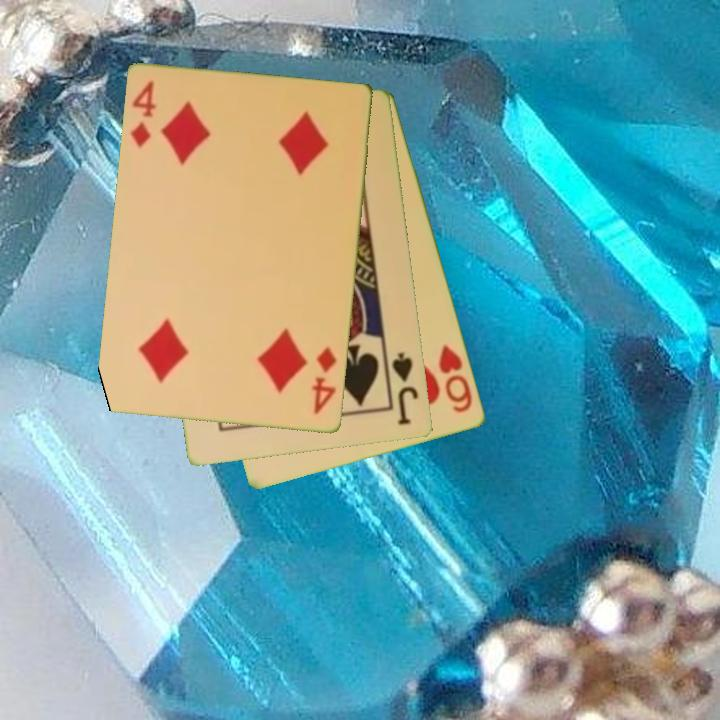4d: (127, 78, 160, 151), (308, 344, 340, 418)
6h: (435, 341, 476, 416)
Js: (389, 349, 422, 428)
